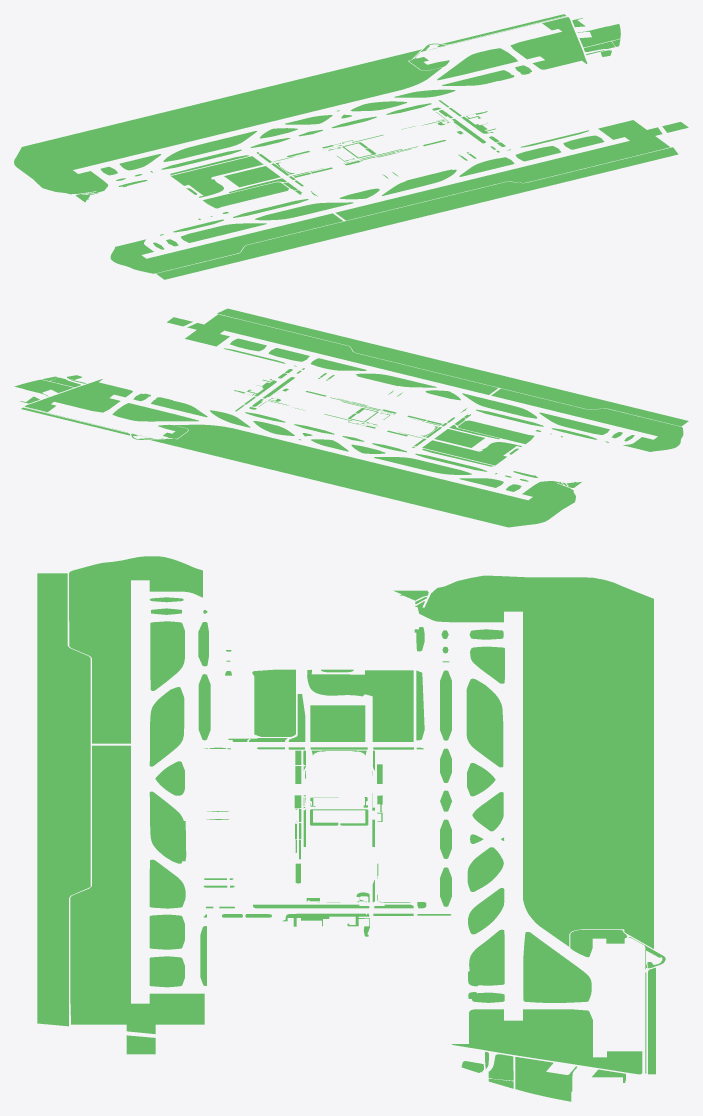
The model's file is Grass_0813.fbx.
3 renders of one model, top to bottom at view 1: azimuth 30°, elevation 25°; view 2: azimuth 150°, elevation 25°; view 3: azimuth 270°, elevation 25°, orthographic. The views are drawn at different scales.
Visible parts, largest first — view 1: polySurface4022; view 2: polySurface4022; view 3: polySurface4022.
Boxes of the visible parts, x1,y1,x2,y2 form: polySurface4022: (14,14,688,279); polySurface4022: (14,308,688,527); polySurface4022: (37,556,665,1101).
Size of the model in its own units: 5191 by 0.2231 by 2527.
